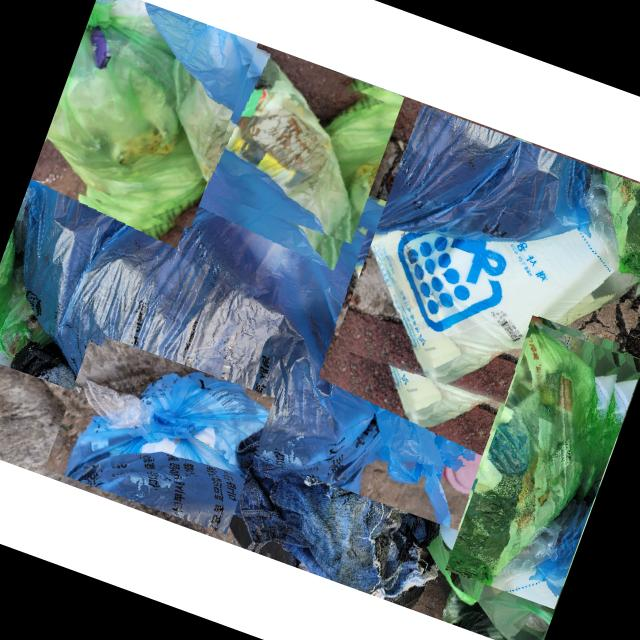general_trashbag: (372, 168, 640, 383), (448, 323, 609, 583), (175, 25, 352, 243), (47, 0, 207, 222)
other_trashbag: (25, 159, 532, 527), (67, 370, 270, 475)
